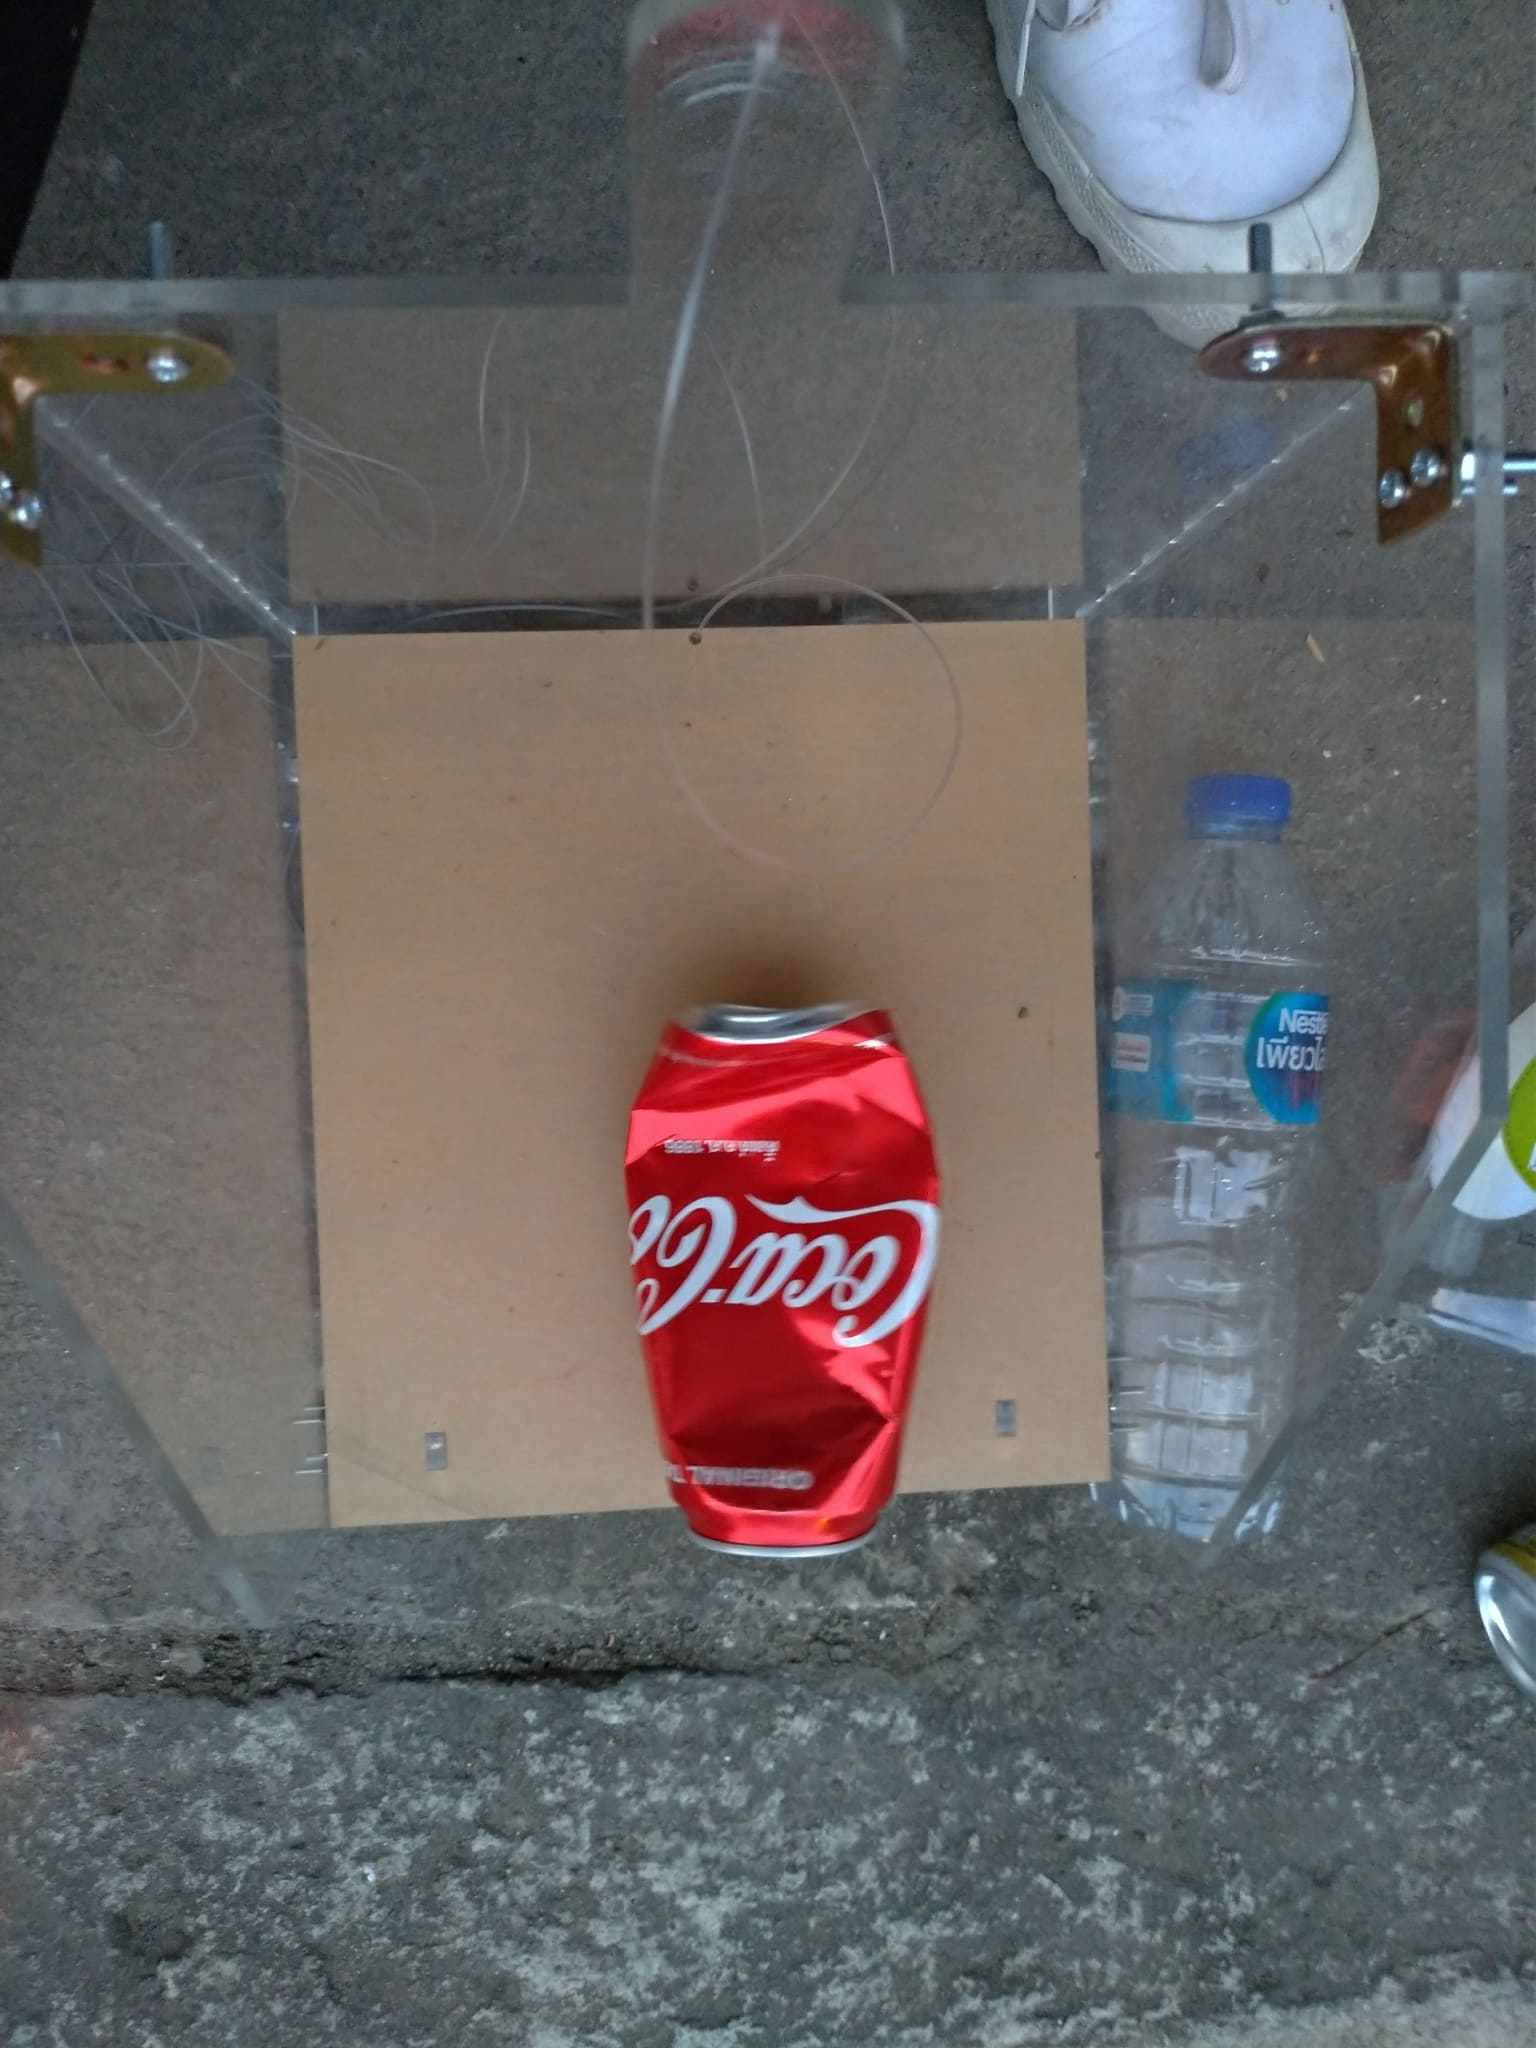AlCan: (620, 993, 942, 1551)
PlasticBottle: (1099, 771, 1338, 1542)
